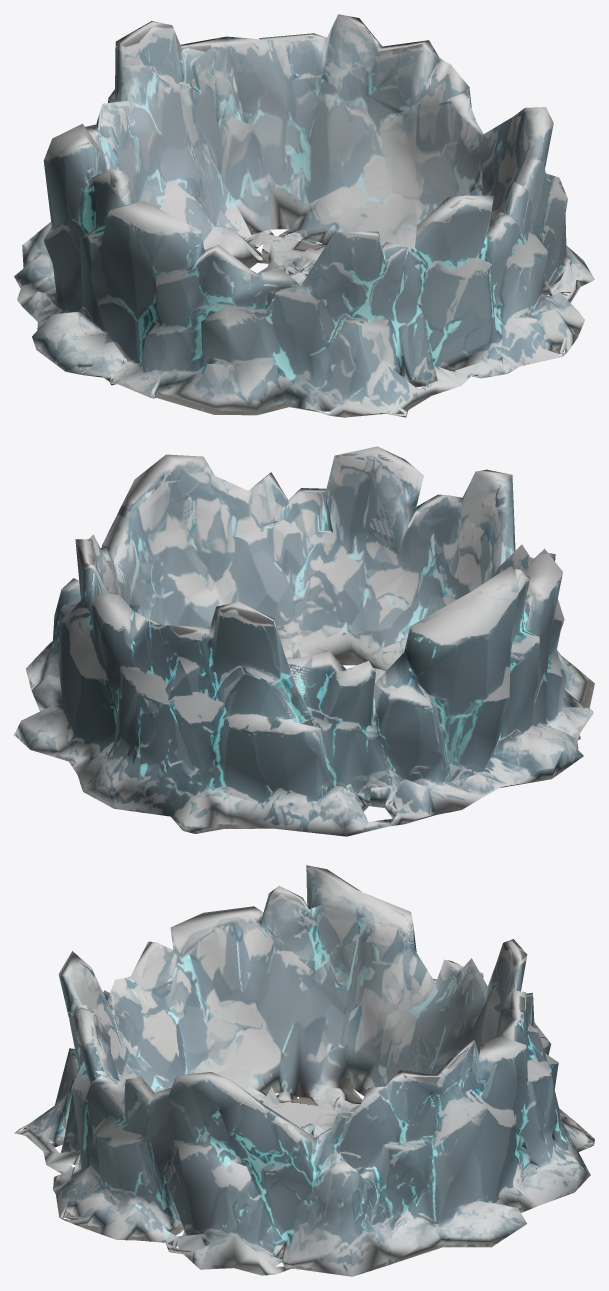
File: PR_IceWall.fbx
3 renders of one model, top to bottom at view 1: azimuth 30°, elevation 25°; view 2: azimuth 150°, elevation 25°; view 3: azimuth 270°, elevation 25°, orthographic. The views are drawn at different scales.
Visible parts, largest first — view 1: texture_mapping; view 2: texture_mapping; view 3: texture_mapping.
Part boxes in pixels (x1=…): texture_mapping: x1=14, y1=14, x2=594, y2=417; texture_mapping: x1=14, y1=446, x2=594, y2=836; texture_mapping: x1=14, y1=865, x2=594, y2=1276.
Bounding box in the file's own units: 0.9626 × 0.9793 × 0.3674.
Materials: 1 (1 with a texture image).
